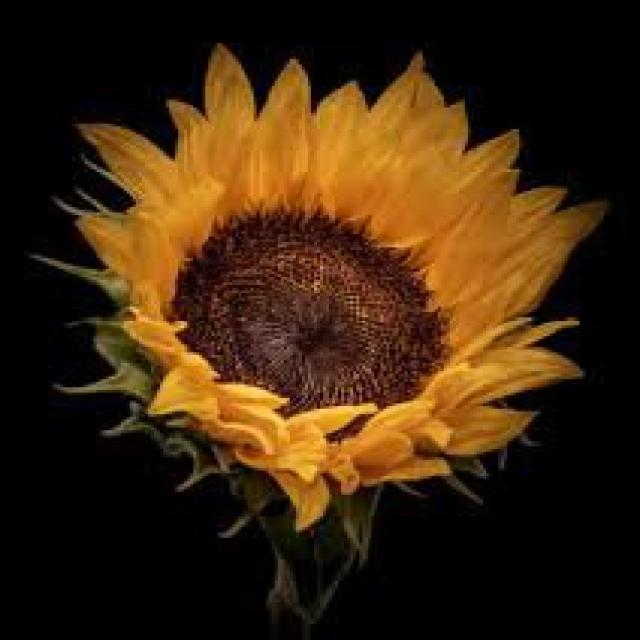sunflower: (65, 34, 626, 528)
